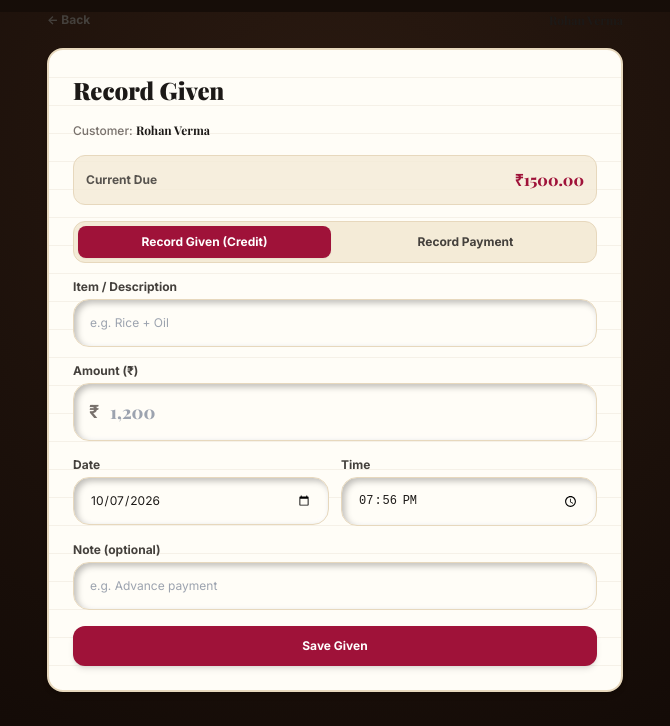
it: AddTransactionPage › validates amount field when submitted empty or zero
The width and height of the screenshot is (670, 726).
// Click Save Given button with empty amount
Click the button "Save Given" at x=335, y=646, box [73,626,597,666]
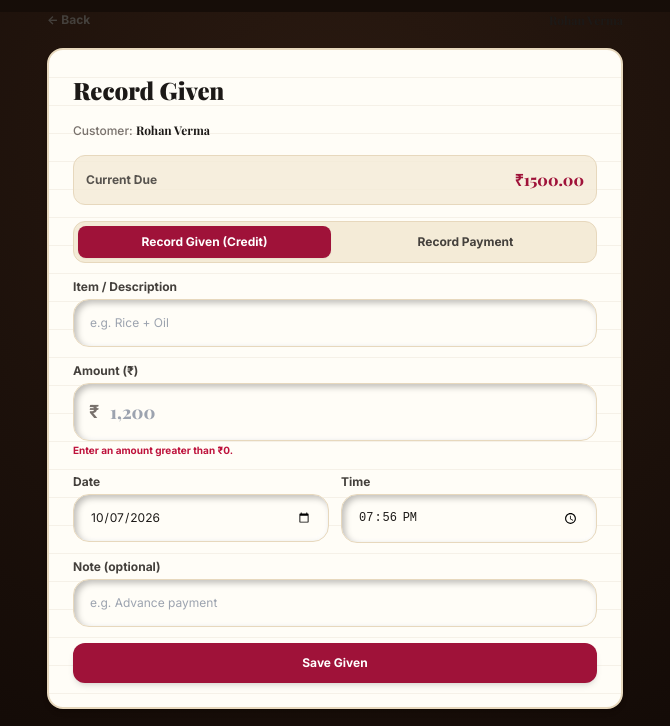
Now the text "Enter an amount greater than ₹0." is shown, box [73,444,233,456]
